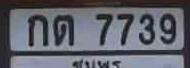3: (138, 13, 154, 44)
7: (116, 13, 133, 44), (95, 14, 112, 44)
9: (159, 12, 175, 43)
A01: (27, 14, 47, 46)
A21: (53, 14, 73, 45)
CPN: (69, 58, 123, 68)
